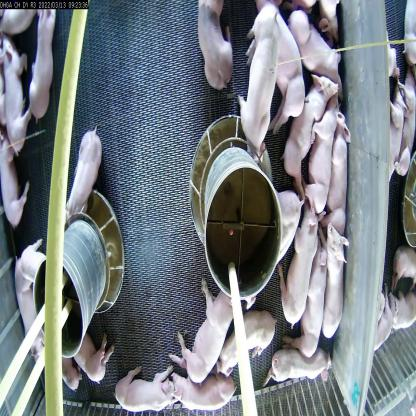Pig: (176, 263, 236, 380), (240, 1, 282, 161), (258, 0, 307, 127), (290, 1, 346, 98), (64, 113, 107, 237), (278, 187, 316, 327), (282, 83, 334, 185), (217, 294, 277, 377), (31, 1, 66, 130), (193, 0, 240, 94), (166, 351, 239, 409), (0, 27, 31, 155), (319, 204, 346, 342), (115, 359, 180, 415), (309, 94, 338, 219), (264, 340, 338, 388), (304, 227, 329, 368), (328, 99, 352, 237), (0, 132, 31, 229)
